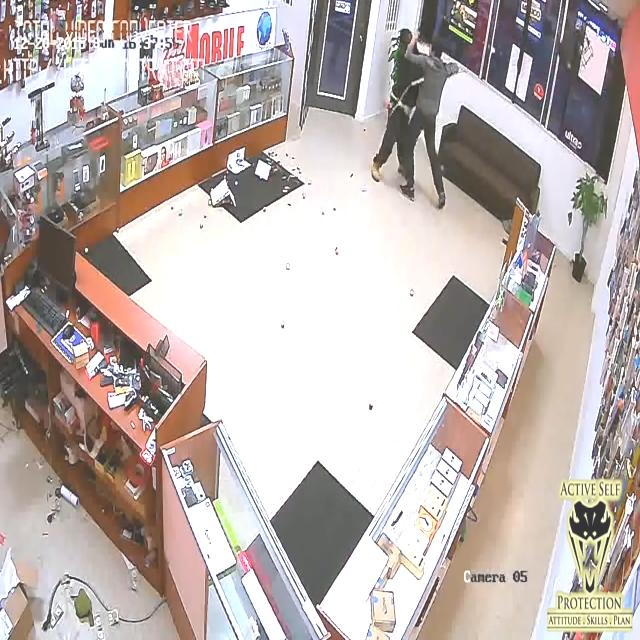fight: (373, 8, 454, 226)
